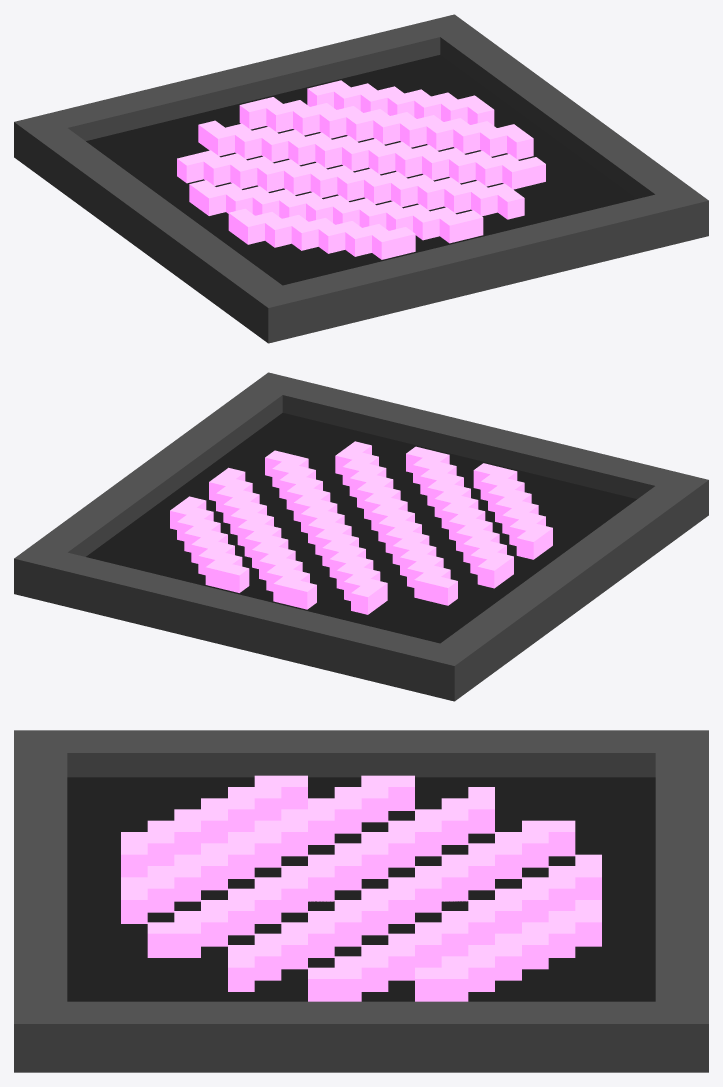
File: trap_GRILL_VIOLET.glb
3 renders of one model, top to bottom at view 1: azimuth 30°, elevation 25°; view 2: azimuth 150°, elevation 25°; view 3: azimuth 270°, elevation 25°, orthographic. The views are drawn at different scales.
Parts seen in each view (by area): view 1: item_TRAP_GRILL_VIOLET; view 2: item_TRAP_GRILL_VIOLET; view 3: item_TRAP_GRILL_VIOLET.
Boxes of the visible parts, x1,y1,x2,y2 form: item_TRAP_GRILL_VIOLET: (14,14,708,343); item_TRAP_GRILL_VIOLET: (14,372,708,701); item_TRAP_GRILL_VIOLET: (14,730,708,1072).
Bounding box in the file's own units: 0.5909 × 0.0455 × 0.5909.
1 material, 1 textured.
